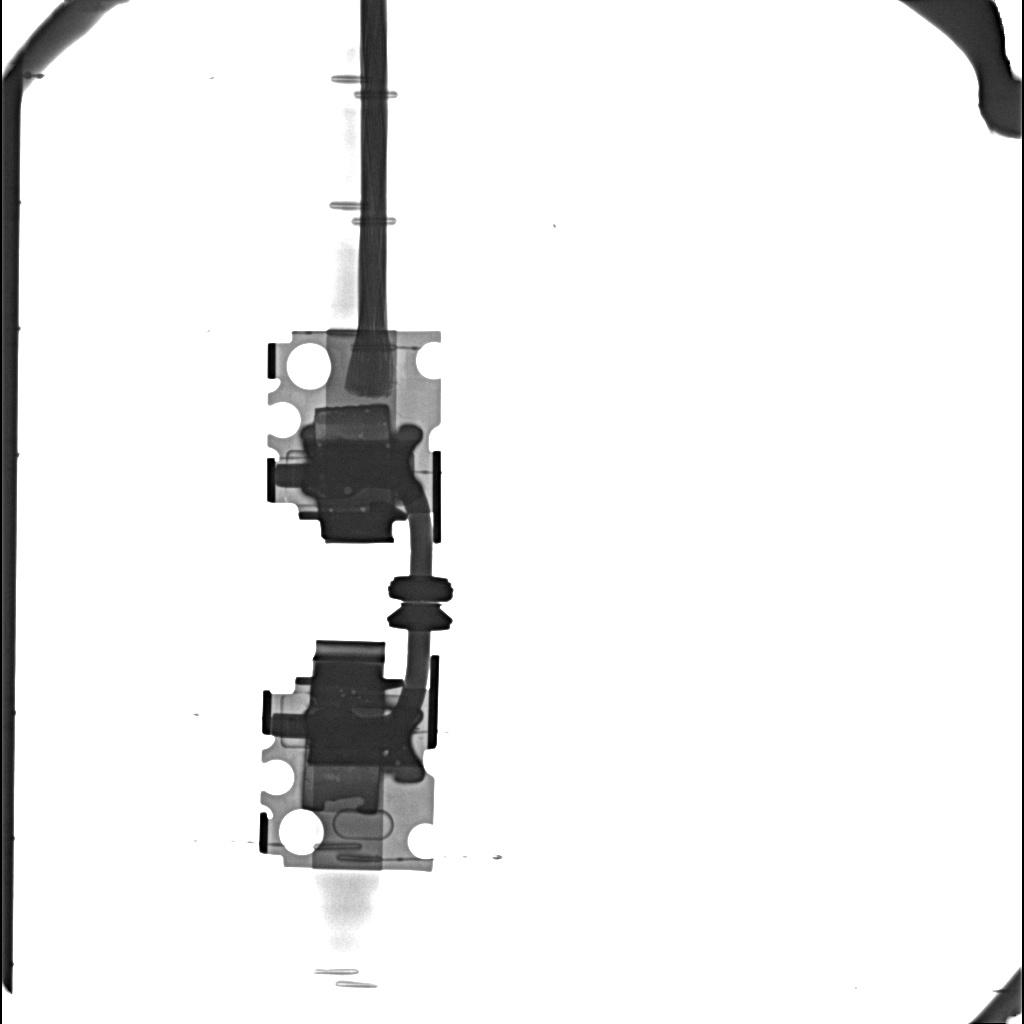PX: (300, 765, 382, 813), (313, 403, 392, 445)
SX: (302, 441, 406, 498), (308, 715, 417, 765)
